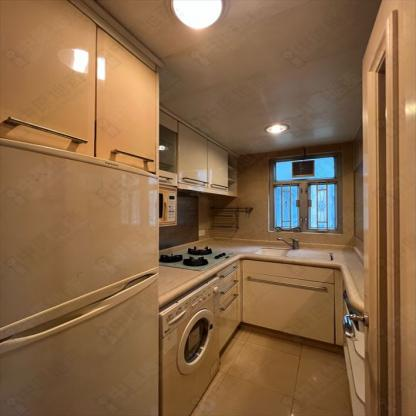Cupboard: (0, 1, 241, 193), (219, 258, 335, 346)
Exhaust Fan: (291, 159, 315, 178)
Faucet: (276, 234, 309, 251)
Fridge: (0, 140, 160, 414)
Microwave: (157, 187, 178, 224)
Sink: (249, 247, 335, 262)
Stove: (159, 245, 240, 272)
Washing Machine: (159, 275, 222, 414)
